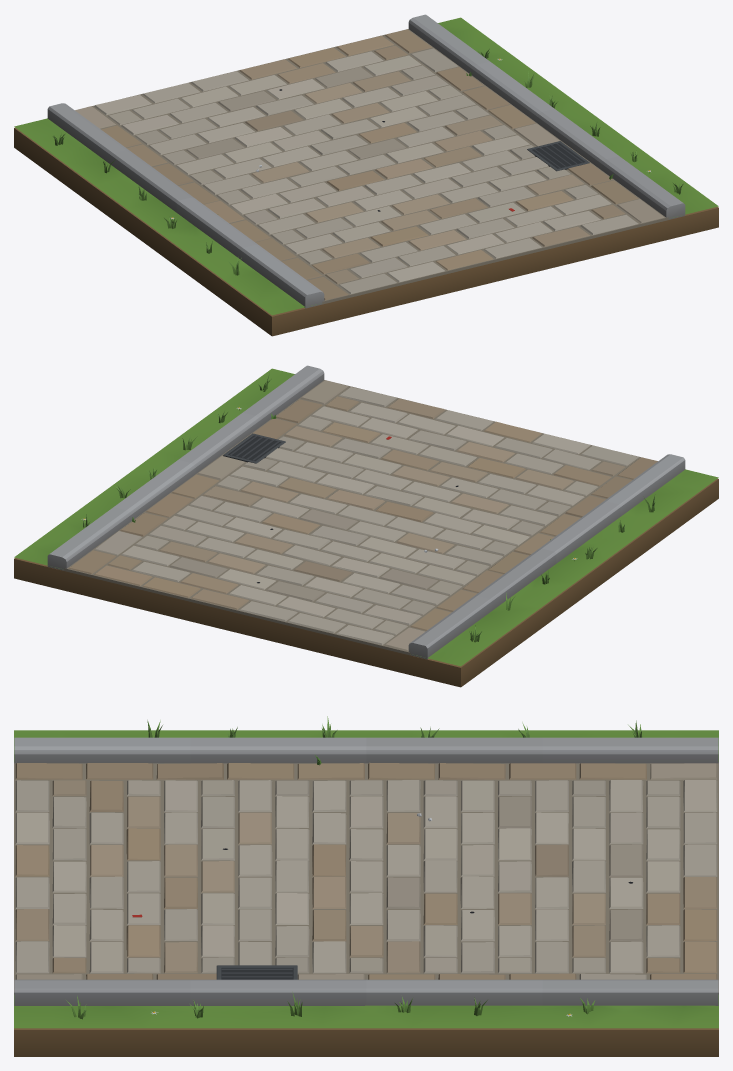
Rendered from road-midway-straight.glb.
3 views of the same model, one above another, from view 1: azimuth 30°, elevation 25°; view 2: azimuth 150°, elevation 25°; view 3: azimuth 270°, elevation 25° (orthographic). The views are drawn at different scales.
Visible parts, largest first — view 1: road_midway_straight; view 2: road_midway_straight; view 3: road_midway_straight.
Boxes of the visible parts, <box> form: road_midway_straight: <box>14,14,718,336</box>; road_midway_straight: <box>14,365,718,687</box>; road_midway_straight: <box>14,716,718,1056</box>.
Size of the model in its own units: 4 by 0.3108 by 4.
